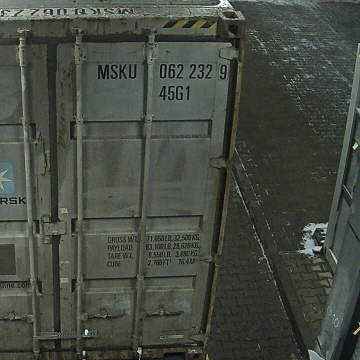serial_id: (97, 64, 228, 79)
